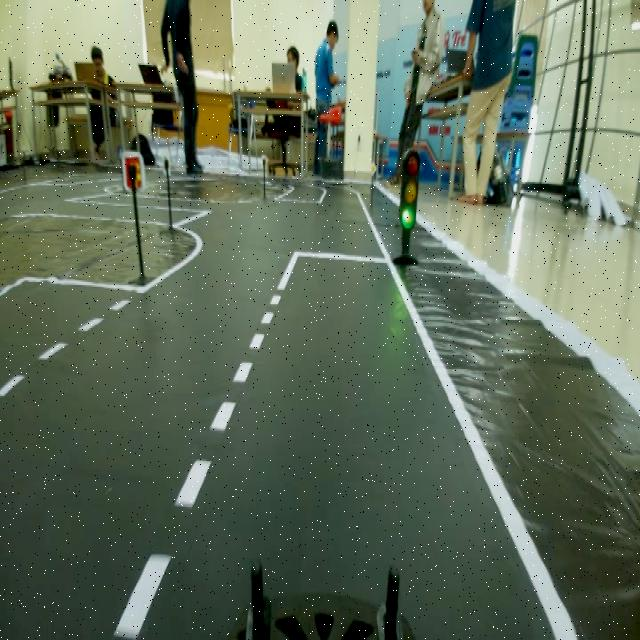trafficlight: (388, 141, 425, 279)
